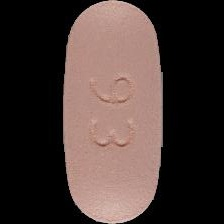0179-0205: (0, 0, 224, 224)
